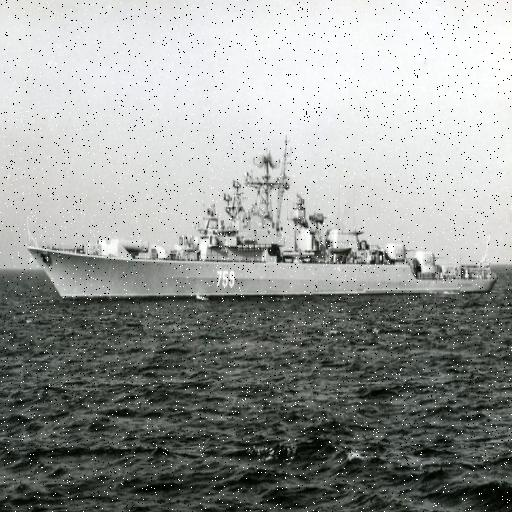Fragata: (27, 129, 501, 309)
